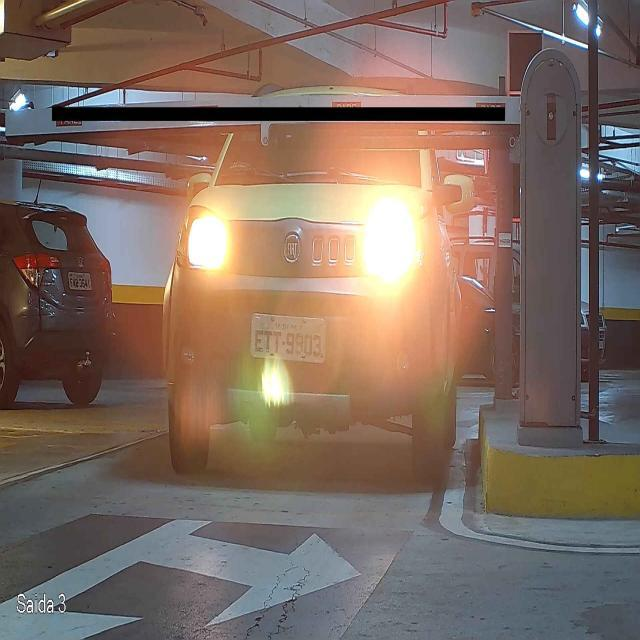old_plate: (248, 311, 329, 367)
